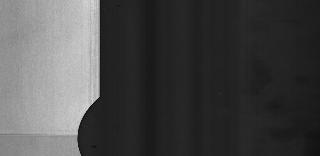welding line: (3, 130, 79, 142)
